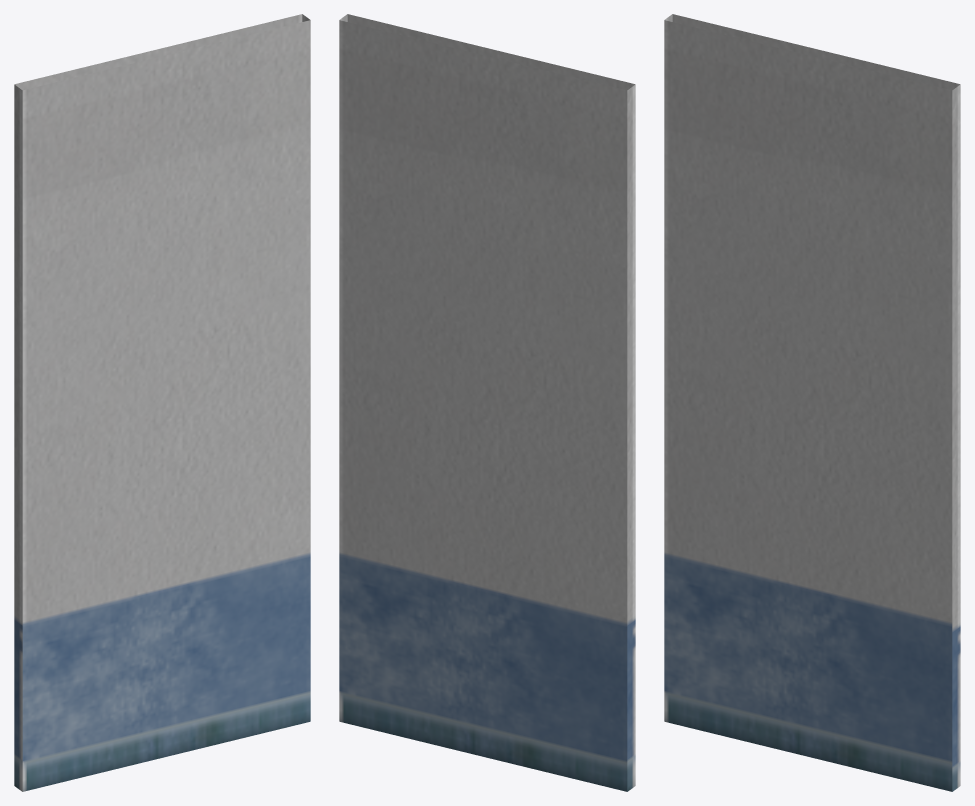
The model's file is Wall_tall.FBX.
The picture shows the model from 3 angles, left to right: view 1: azimuth 30°, elevation 25°; view 2: azimuth 150°, elevation 25°; view 3: azimuth 330°, elevation 25°; orthographic projection.
Visible parts, largest first — view 1: Wall_tall; view 2: Wall_tall; view 3: Wall_tall.
Part boxes in pixels (bbox=[...]): Wall_tall: bbox=[14, 14, 310, 791]; Wall_tall: bbox=[339, 14, 635, 791]; Wall_tall: bbox=[664, 14, 960, 791].
Size of the model in its own units: 131 by 305 by 6.56.
